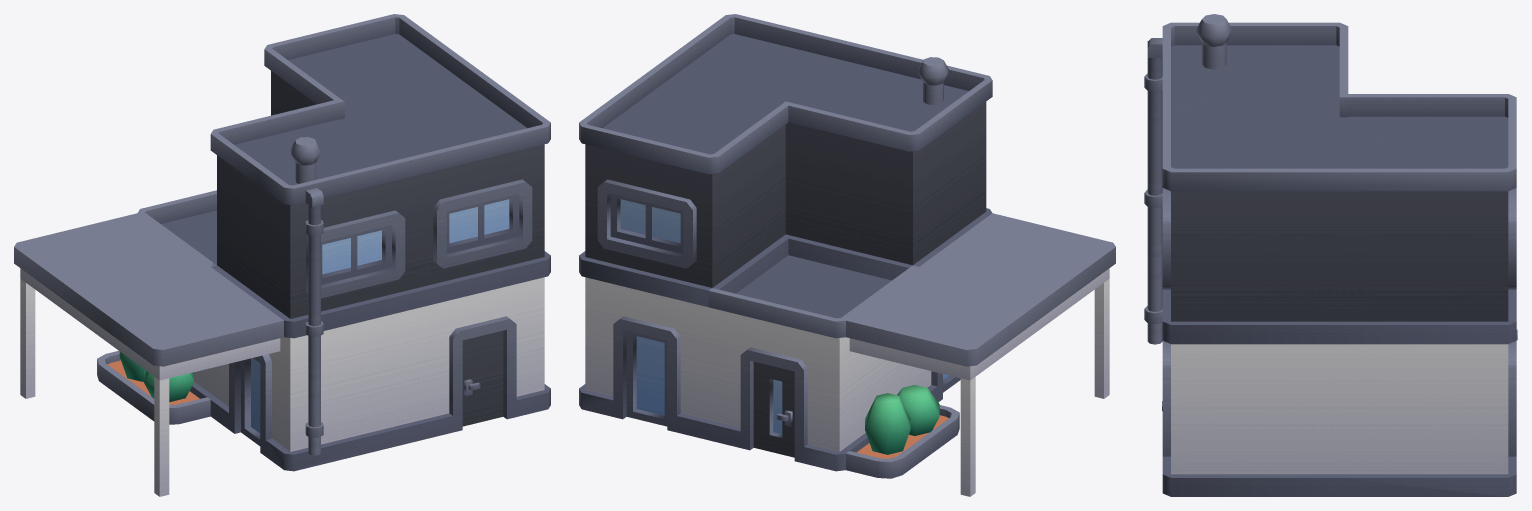
Rendered from s_building-type-q.glb.
3 renders of one model, left to right at view 1: azimuth 30°, elevation 25°; view 2: azimuth 150°, elevation 25°; view 3: azimuth 270°, elevation 25°, orthographic. The views are drawn at different scales.
Parts seen in each view (by area): view 1: building-type-q; view 2: building-type-q; view 3: building-type-q.
Part boxes in pixels (left/top/right/bottom): building-type-q: left=14, top=14, right=550, bottom=496; building-type-q: left=579, top=14, right=1115, bottom=496; building-type-q: left=1144, top=14, right=1517, bottom=496.
Bounding box in the file's own units: 1.24 × 0.918 × 0.8856.
Materials: 1 (1 with a texture image).
